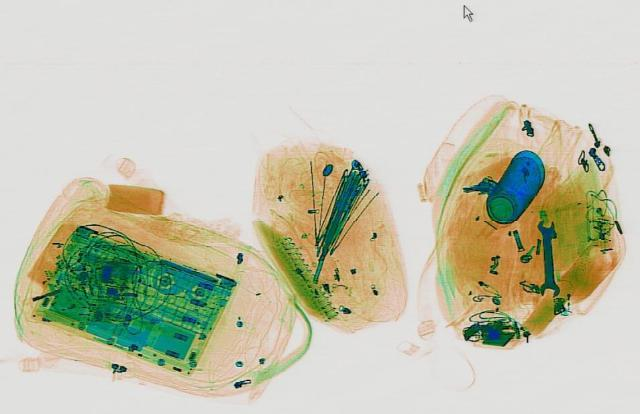Wrench: (535, 217, 559, 294)
